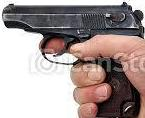gun: (1, 1, 145, 118)
